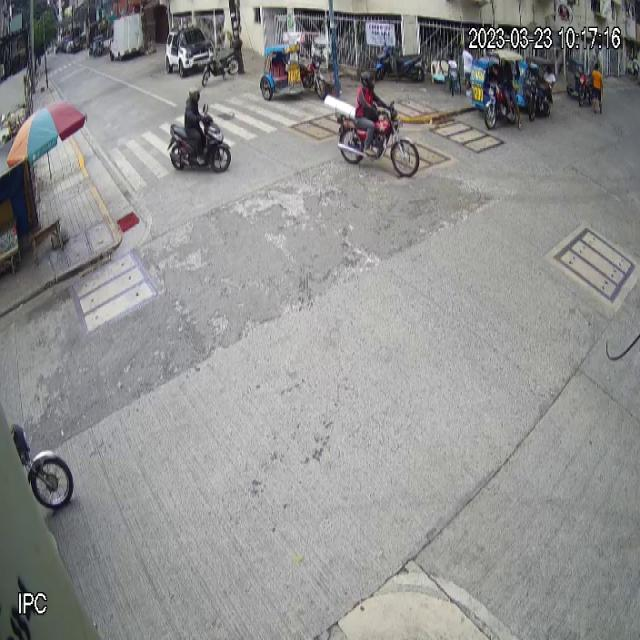Motorcycle: (336, 97, 421, 176), (168, 104, 232, 174)
Tricycle: (260, 30, 326, 104), (469, 50, 522, 128)
